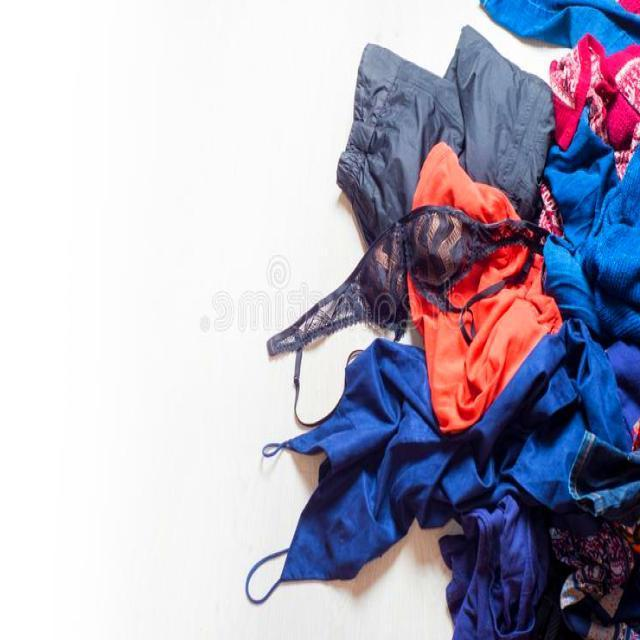clothes: (445, 0, 640, 640)
